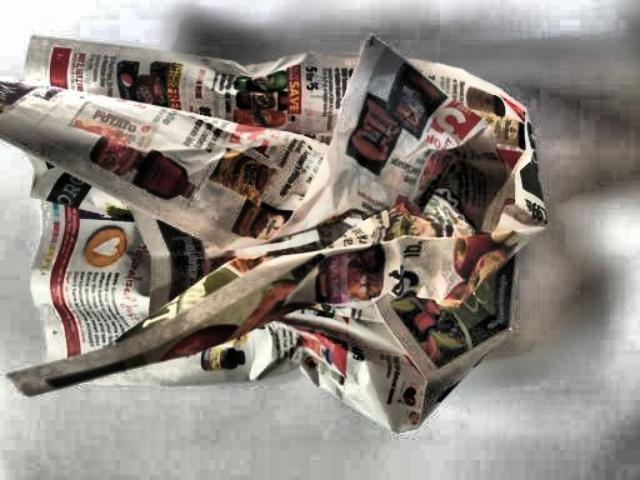Paper: (0, 26, 548, 430)
